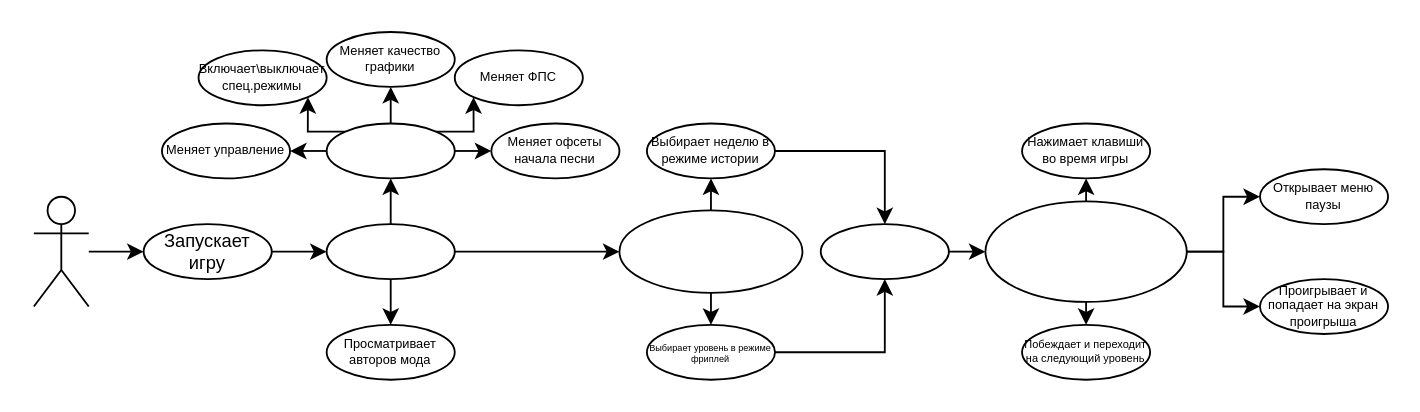
Some shapes in this 1420 by 412 pixel diagram are drawn without their labels. The shapes that lost their labels are listed below. From the top down, each one's centre as x and y in pixels, then its label:
At pixel 390 150: "Открывает меню настроек".
At pixel 60 251: "Игрок".
At pixel 390 250: "Выбирает опцию".
At pixel 710 251: "Выбирает режим игры".
At pixel 884 250: "Выбирает сложность уровня".
At pixel 1085 250: "Начинает играть".
